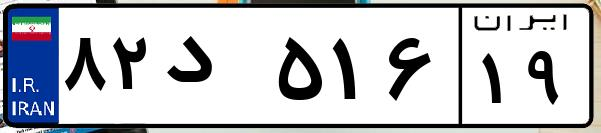1: (330, 28, 385, 110), (475, 38, 525, 113)
2: (110, 28, 158, 98)
5: (270, 28, 330, 110)
6: (385, 28, 445, 110)
8: (57, 26, 110, 100)
9: (525, 38, 570, 115)
د: (158, 20, 270, 120)
